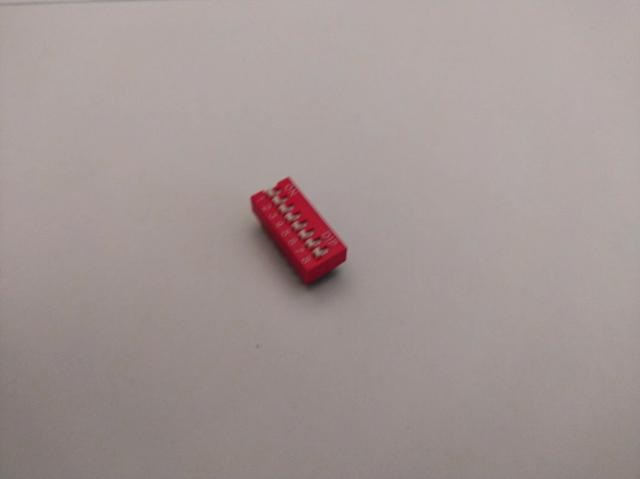dip_switch: (250, 176, 346, 288)
